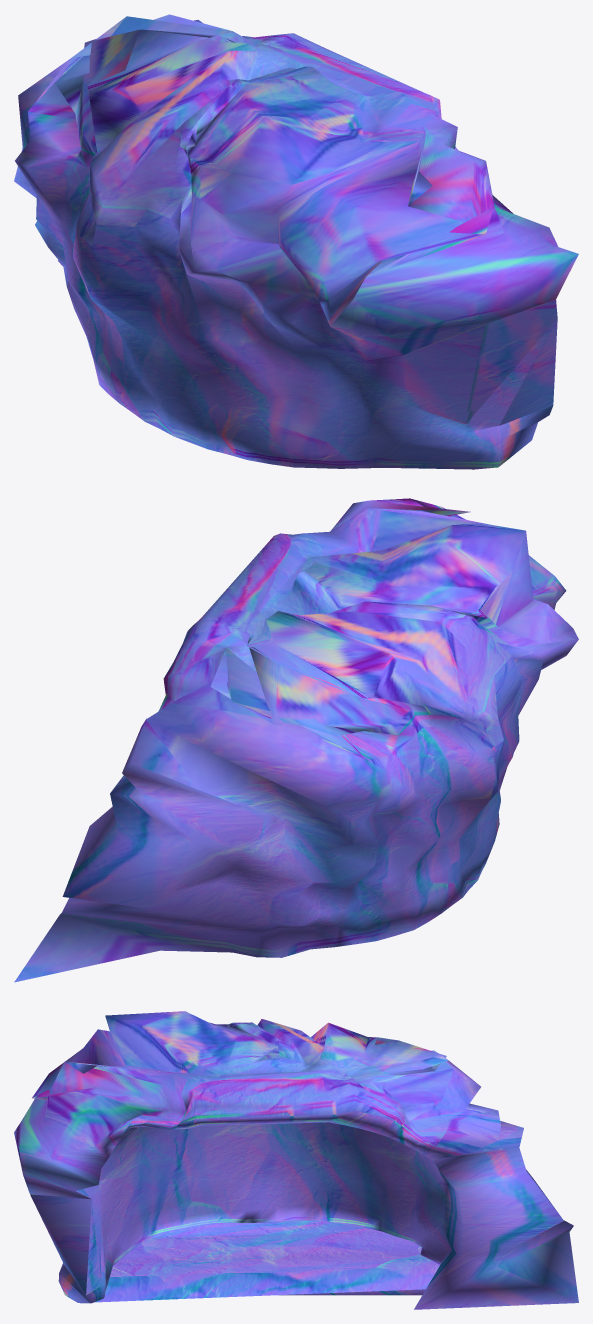
The model's file is Wide_Cave.fbx.
3 views of the same model, one above another, from view 1: azimuth 30°, elevation 25°; view 2: azimuth 150°, elevation 25°; view 3: azimuth 270°, elevation 25° (orthographic). The views are drawn at different scales.
Parts seen in each view (by area): view 1: Cave; view 2: Cave; view 3: Cave.
Part boxes in pixels (box(x1,y1,x2,y2)): Cave: box(14, 14, 578, 469); Cave: box(14, 498, 578, 982); Cave: box(14, 1011, 578, 1309).
Size of the model in its own units: 7806 by 7278 by 15908.
Materials: 1 (1 with a texture image).
